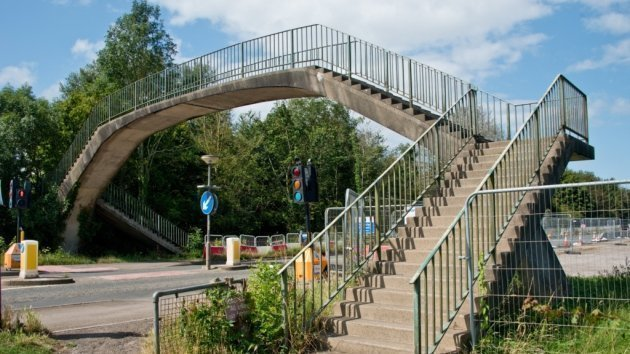bridge: (50, 23, 597, 206)
